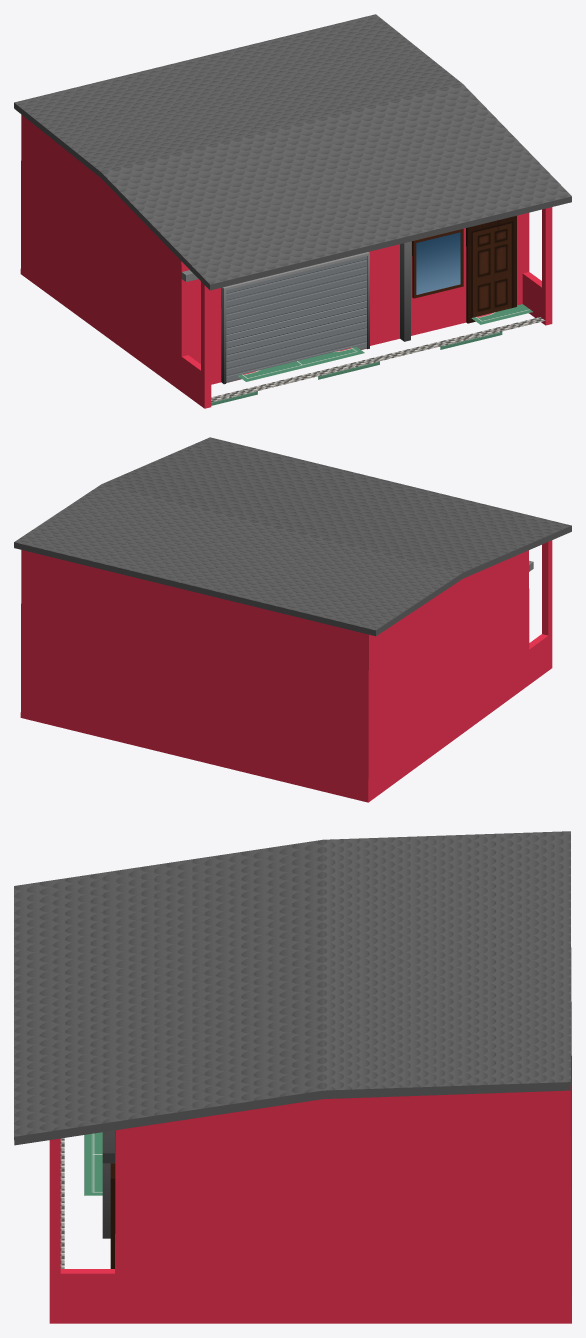
File: RukoKecil2.fbx
3 renders of one model, top to bottom at view 1: azimuth 30°, elevation 25°; view 2: azimuth 150°, elevation 25°; view 3: azimuth 270°, elevation 25°, orthographic. The views are drawn at different scales.
Parts seen in each view (by area): view 1: RukoKecil2_LOD0; view 2: RukoKecil2_LOD0; view 3: RukoKecil2_LOD0.
Boxes of the visible parts, x1=… form: RukoKecil2_LOD0: x1=14, y1=14, x2=571, y2=408; RukoKecil2_LOD0: x1=14, y1=437, x2=571, y2=802; RukoKecil2_LOD0: x1=14, y1=831, x2=571, y2=1323.
Size of what is drawn, in the model's own units: 1155 by 530 by 1086.
